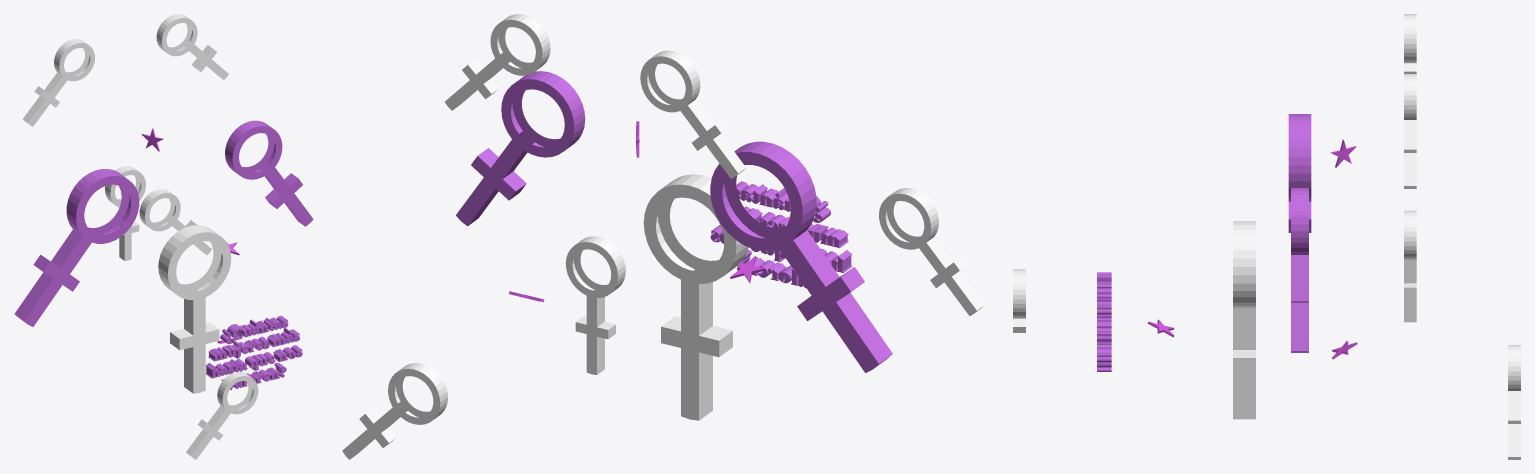
File: Blender_File_Animated.gltf
3 renders of one model, left to right at view 1: azimuth 30°, elevation 25°; view 2: azimuth 150°, elevation 25°; view 3: azimuth 270°, elevation 25°, orthographic. The views are drawn at different scales.
Parts seen in each view (by area): view 1: LeftVenus, MiddleVenus, Curve.011, RightVenus, MiddleVenus.004, MiddleVenus.002, MiddleVenus.003, MiddleVenus.005, MiddleVenus.001; view 2: LeftVenus, MiddleVenus, RightVenus, Curve.011, MiddleVenus.002, MiddleVenus.004, MiddleVenus.001, MiddleVenus.003, MiddleVenus.005; view 3: MiddleVenus, RightVenus, LeftVenus, Curve.011, MiddleVenus.003, MiddleVenus.005, MiddleVenus.001, MiddleVenus.004, MiddleVenus.002.
Boxes of the visible parts, x1,y1,x2,y2 form: LeftVenus: (14, 169, 139, 326); MiddleVenus: (158, 225, 231, 393); Curve.011: (205, 315, 302, 390); RightVenus: (225, 120, 313, 226); MiddleVenus.004: (186, 372, 258, 459); MiddleVenus.002: (22, 39, 94, 126); MiddleVenus.003: (156, 14, 228, 79); MiddleVenus.005: (139, 189, 211, 254); MiddleVenus.001: (105, 166, 145, 260); LeftVenus: (710, 141, 892, 372); MiddleVenus: (643, 174, 748, 420); RightVenus: (456, 71, 585, 226); Curve.011: (710, 181, 852, 287); MiddleVenus.002: (640, 50, 745, 178); MiddleVenus.004: (879, 188, 984, 315); MiddleVenus.001: (565, 236, 625, 374); MiddleVenus.003: (445, 14, 550, 110); MiddleVenus.005: (342, 363, 447, 459); MiddleVenus: (1233, 221, 1255, 419); RightVenus: (1291, 188, 1308, 352); LeftVenus: (1288, 114, 1311, 232); Curve.011: (1097, 272, 1111, 371); MiddleVenus.003: (1404, 74, 1416, 188); MiddleVenus.005: (1508, 345, 1520, 459); MiddleVenus.001: (1404, 210, 1416, 322); MiddleVenus.004: (1013, 269, 1025, 332); MiddleVenus.002: (1404, 14, 1416, 73).
Size of the model in its own units: 9.24 by 9.4 by 11.68.
